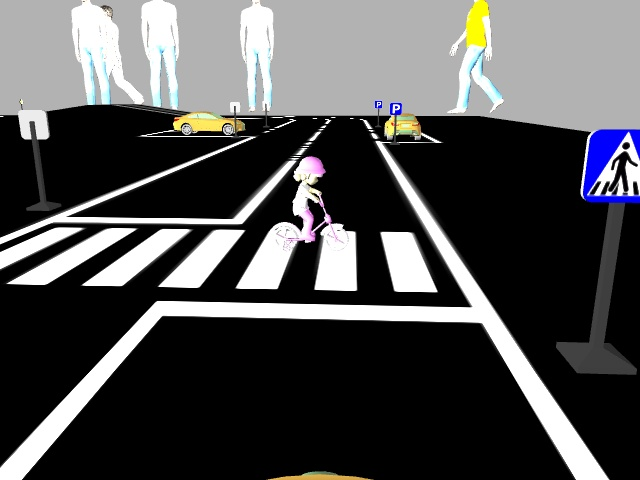Crosswalk: (580, 128, 639, 210)
Parking: (387, 102, 405, 116)
Pedestrian: (263, 157, 353, 253)
